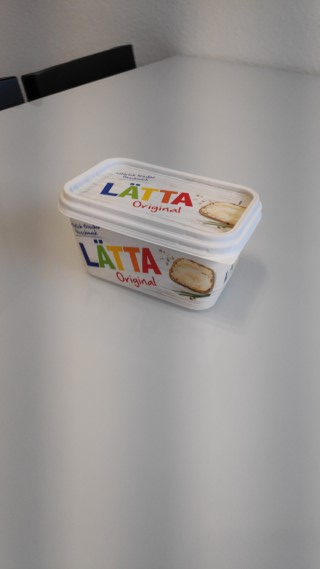laetta: (56, 154, 264, 313)
